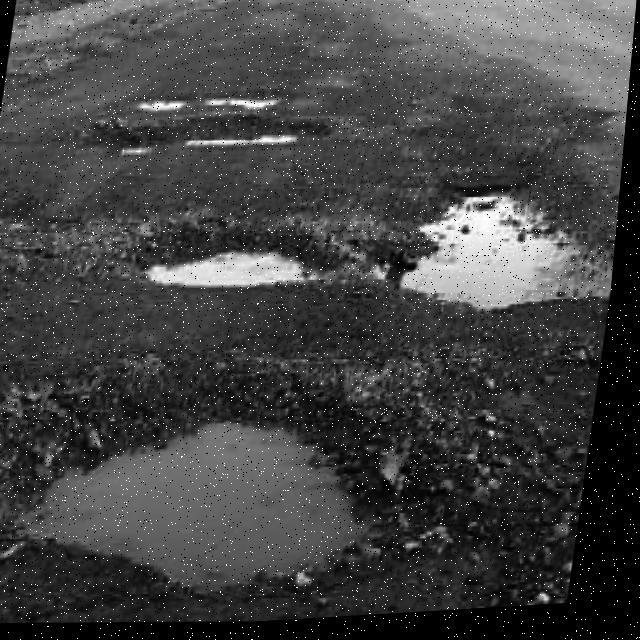pothole: (4, 384, 416, 623), (362, 174, 626, 332), (77, 108, 338, 174), (141, 227, 351, 305), (204, 90, 296, 120), (102, 94, 196, 121)
